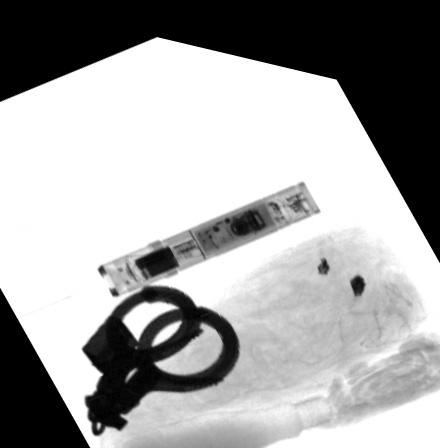Baton: (94, 165, 319, 292)
HandCuffs: (81, 273, 241, 435)
Lighter: (80, 305, 139, 369)
